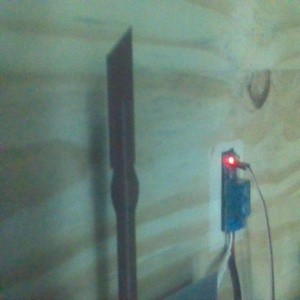cutter: (105, 25, 140, 300)
